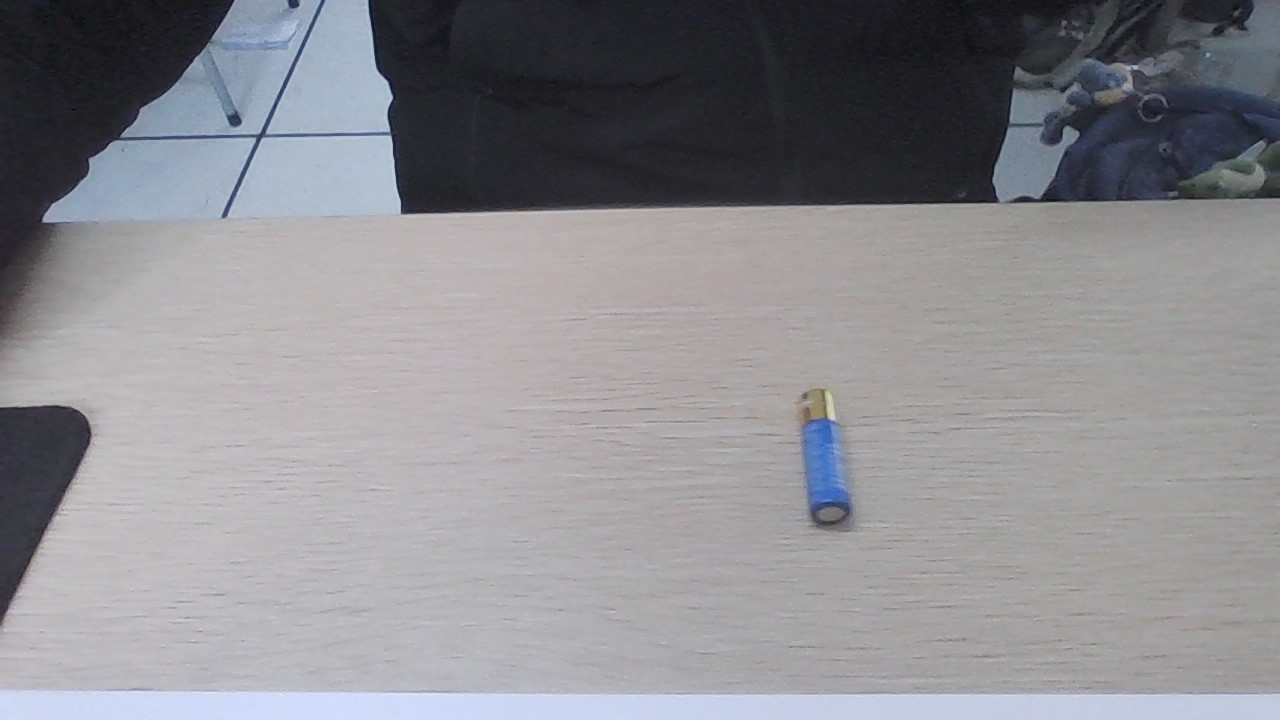YH-battery: (791, 388, 853, 522)
